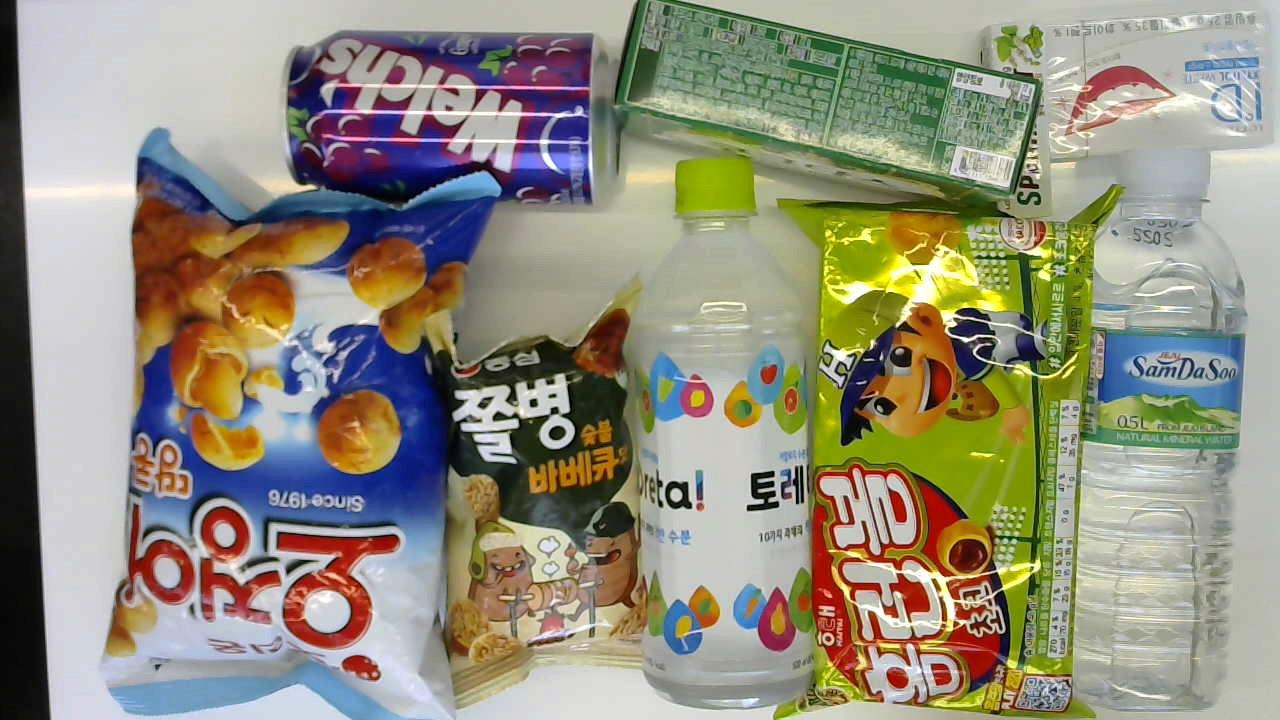ID_gum: (1043, 19, 1275, 160)
couque_coffee: (616, 0, 1039, 203)
homerunball: (771, 176, 1124, 714)
jjolbyung_ori: (433, 261, 644, 705)
samdasu: (1060, 122, 1246, 712)
spearmint: (977, 17, 1055, 219)
squid_peanut: (105, 122, 491, 720)
toreta: (633, 146, 806, 712)
welchs: (273, 29, 624, 207)
